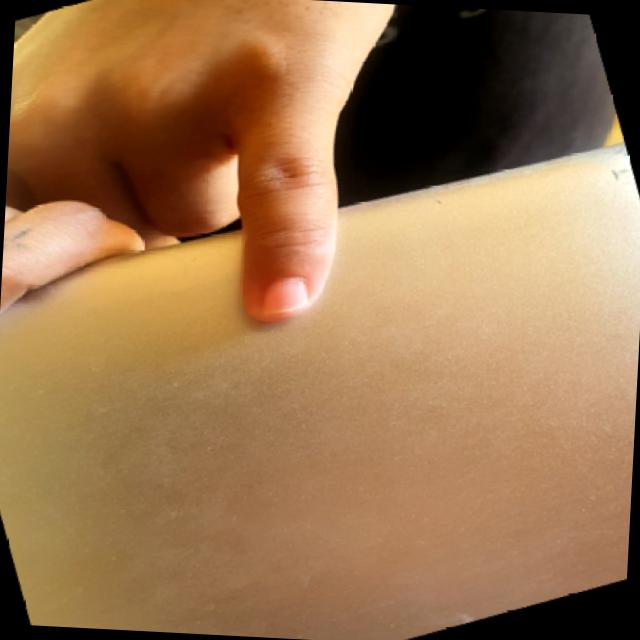Nail: (263, 278, 306, 314)
